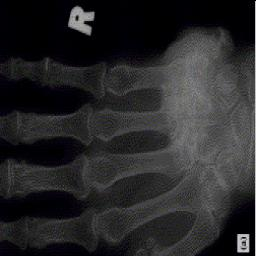cancer: (163, 25, 229, 174)
